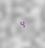four: (19, 20, 24, 27)
